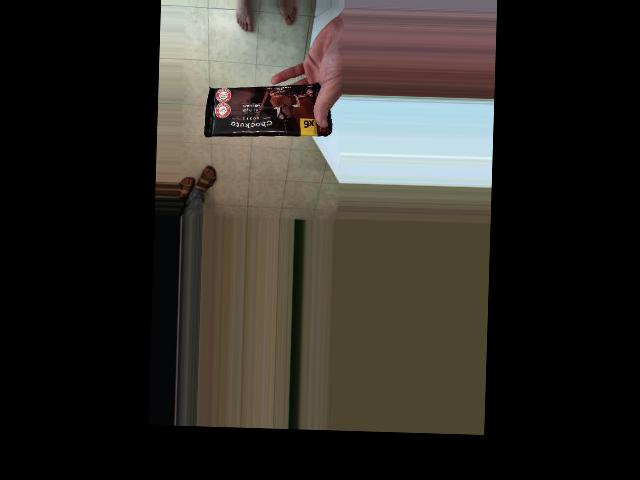chocolate: (204, 69, 336, 147)
